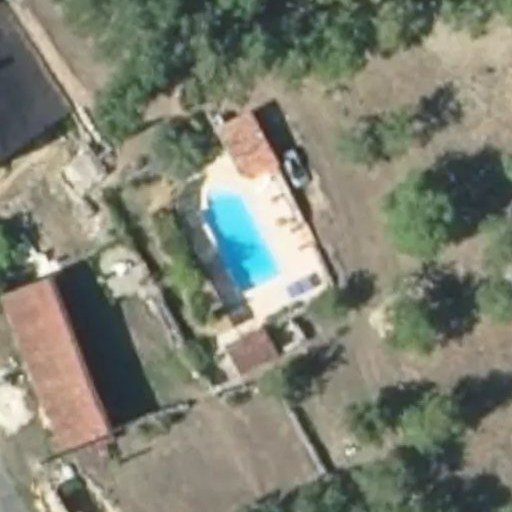pool: (206, 199, 298, 275)
